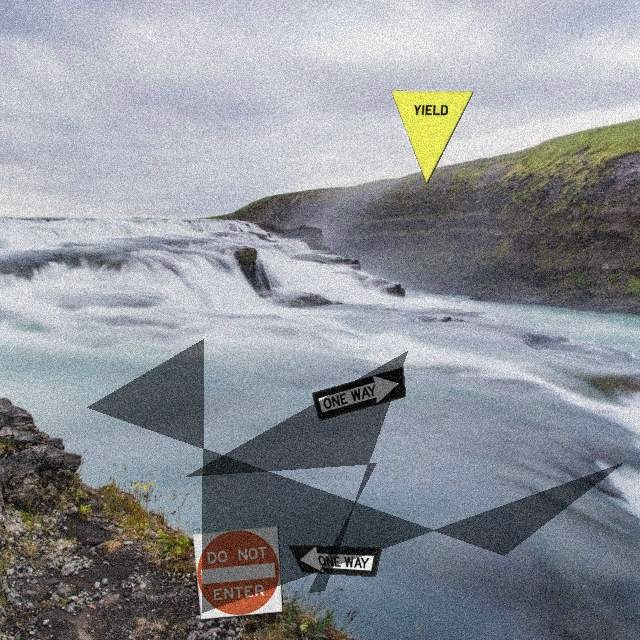DO_NOT_ENTER: (192, 525, 283, 620)
ONE_WAY_ left: (287, 544, 382, 577)
ONE_WAY_ right: (311, 366, 406, 421)
YIELD: (390, 90, 474, 185)
